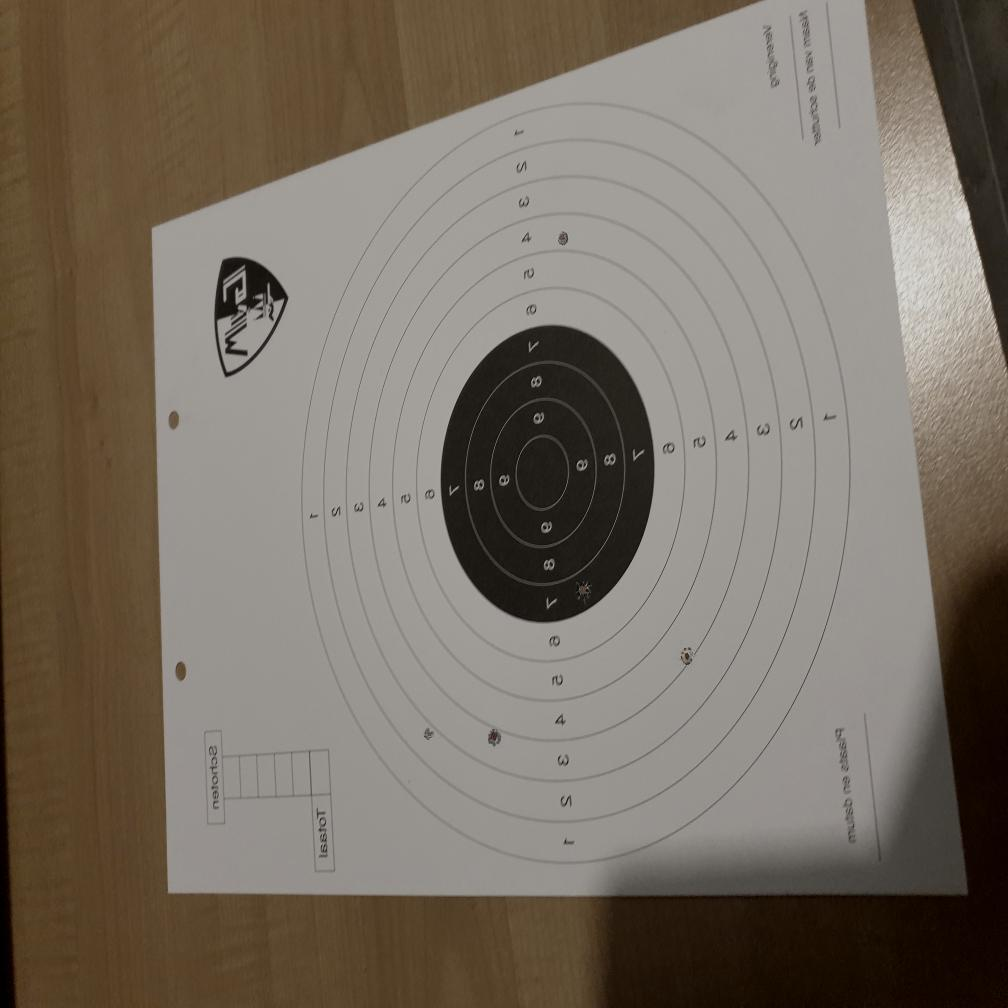2: (422, 725, 435, 742)
3: (486, 727, 503, 750)
4: (678, 645, 696, 671), (557, 229, 570, 247)
7: (573, 579, 594, 607)
Target: (301, 100, 850, 868)
black_contour: (440, 324, 654, 622)
